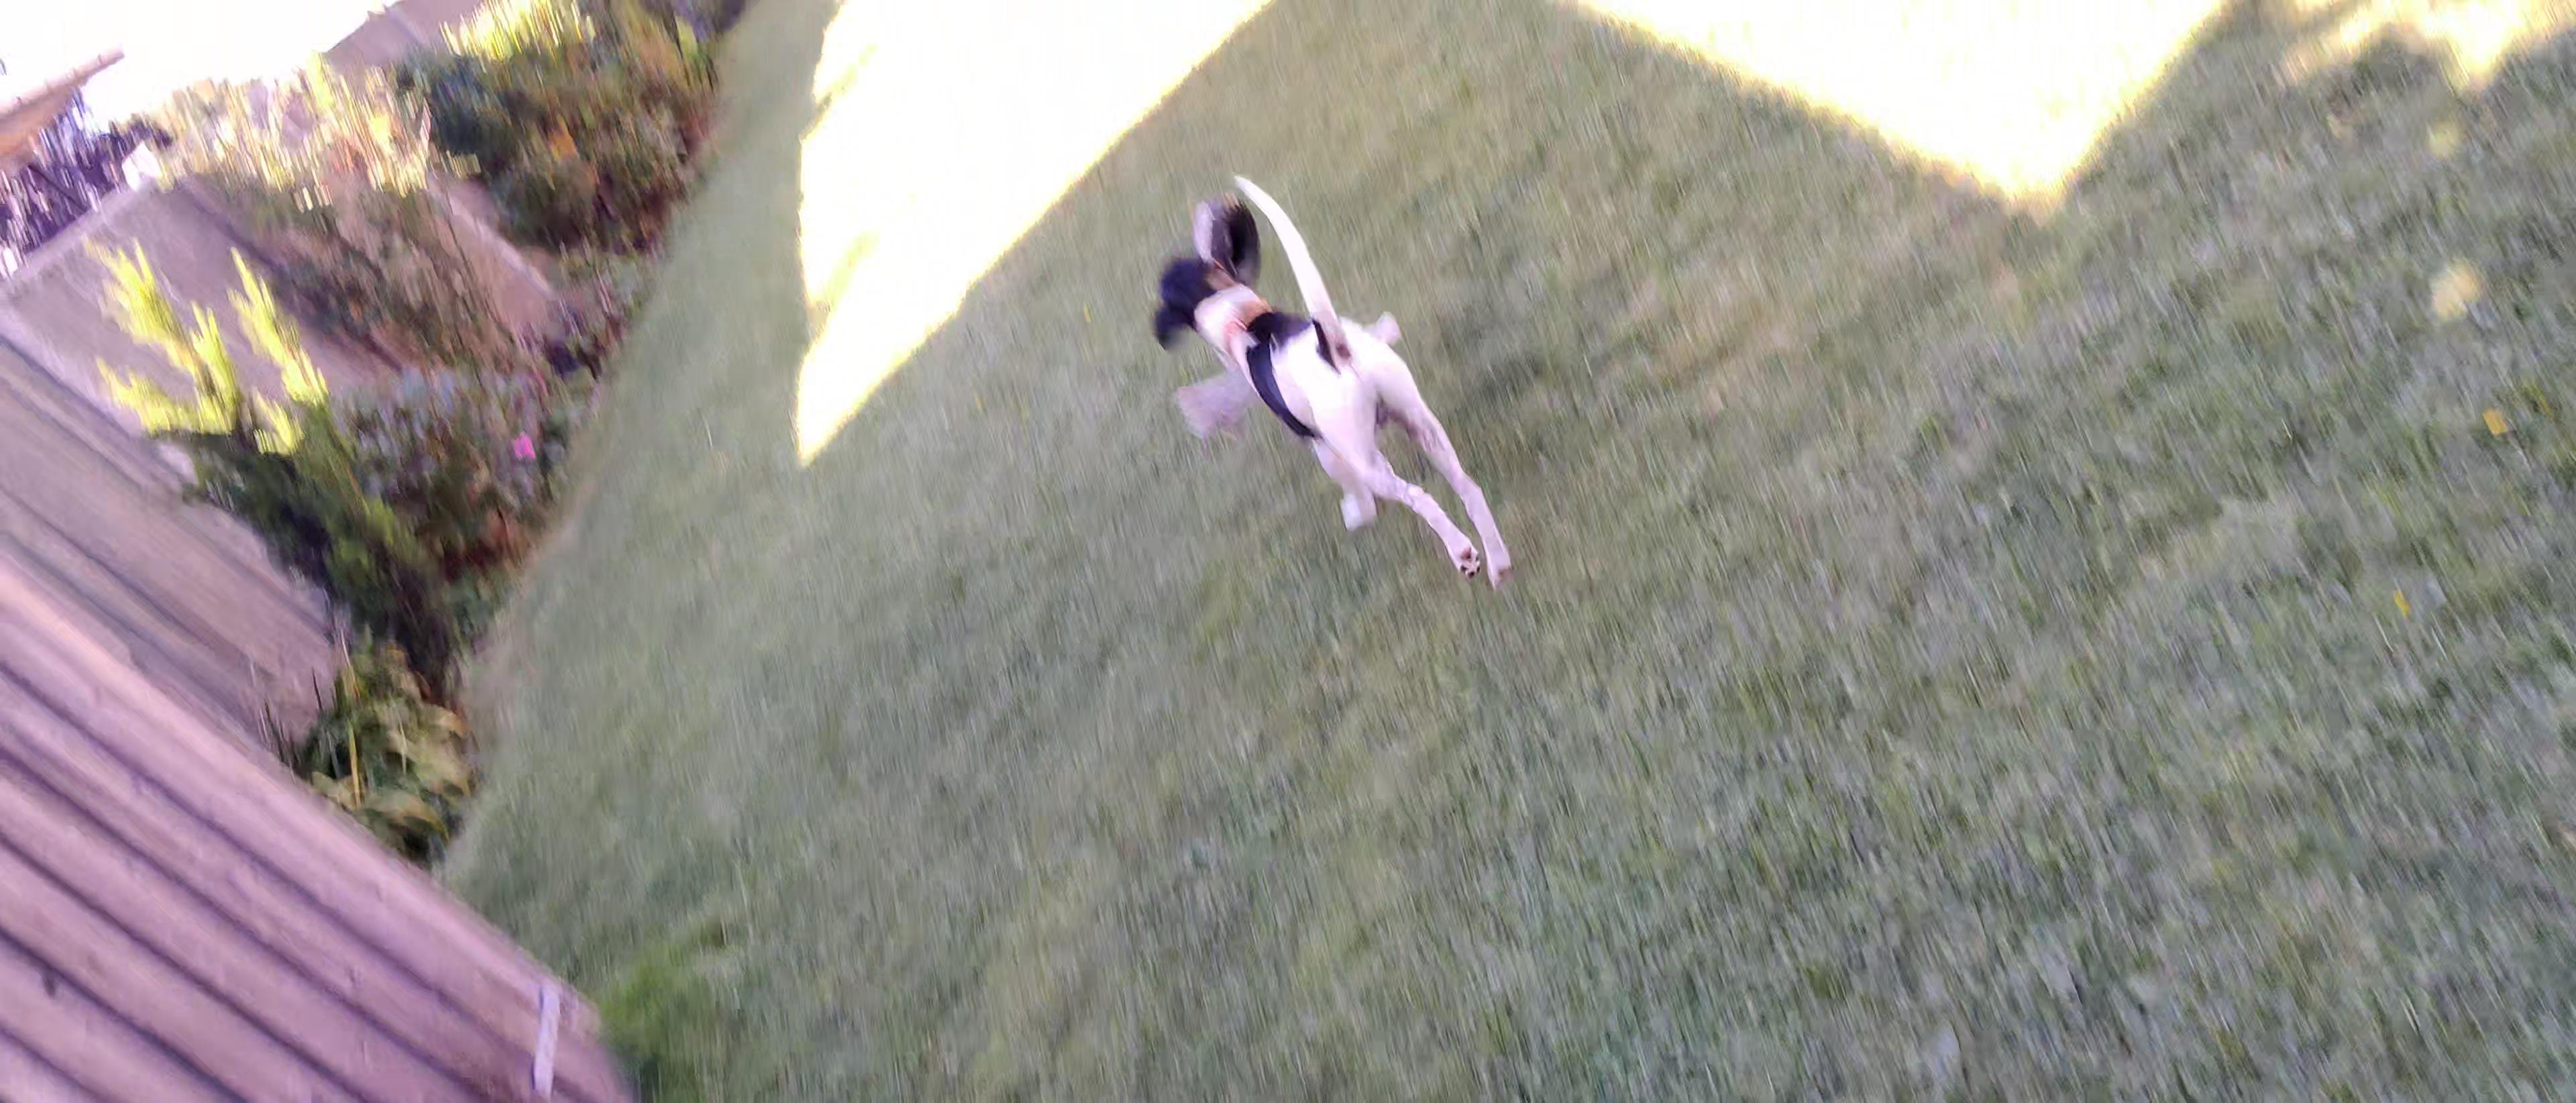Dog: (1143, 161, 1515, 597)
